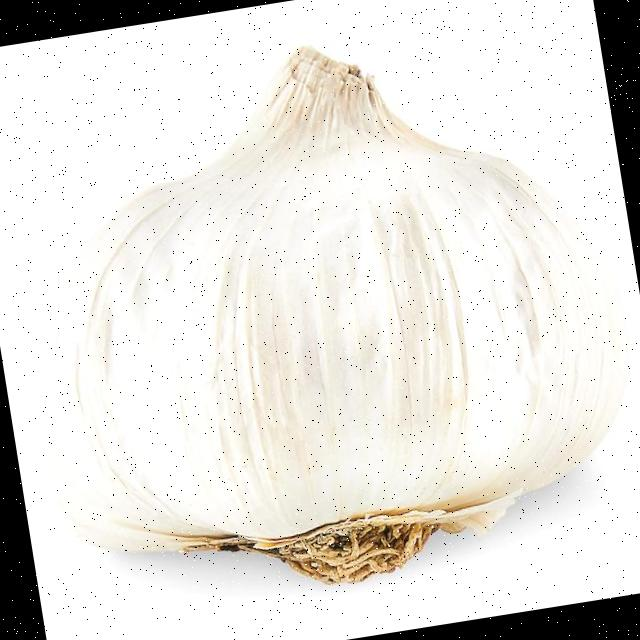garlic: (54, 47, 625, 582)
